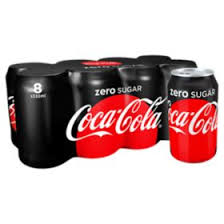can: (14, 63, 67, 169), (69, 62, 124, 158), (169, 69, 220, 166), (120, 64, 169, 163)
